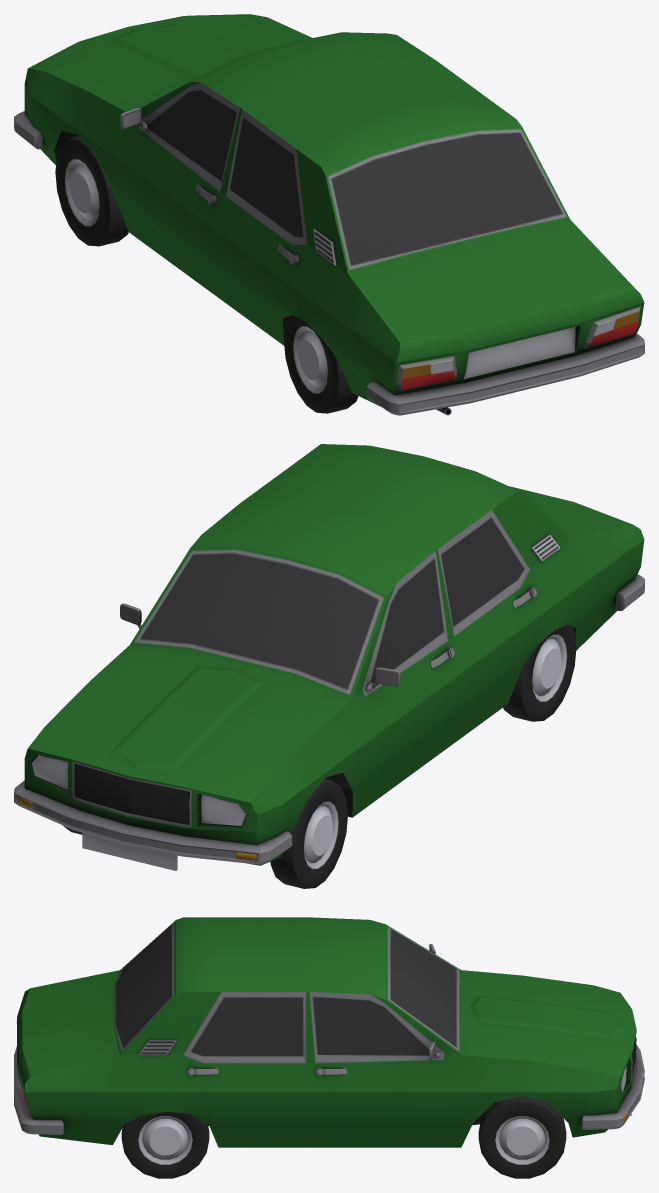
File: Car08.FBX
The picture shows the model from 3 angles, top to bottom: view 1: azimuth 30°, elevation 25°; view 2: azimuth 150°, elevation 25°; view 3: azimuth 270°, elevation 25°; orthographic projection. The views are drawn at different scales.
Parts seen in each view (by area): view 1: Body, FLWheel, RLWheel; view 2: Body, FLWheel, RLWheel; view 3: Body, FRWheel, RRWheel.
Boxes of the visible parts, <box> form: Body: <box>14,14,644,415</box>; FLWheel: <box>55,136,128,246</box>; RLWheel: <box>283,315,358,413</box>; Body: <box>14,444,644,870</box>; FLWheel: <box>270,778,347,888</box>; RLWheel: <box>503,625,576,721</box>; Body: <box>14,917,644,1147</box>; FRWheel: <box>478,1096,566,1178</box>; RRWheel: <box>121,1111,209,1178</box>.
Size of the model in its own units: 1.73 by 1.45 by 4.33.
2 materials, 2 textured.
